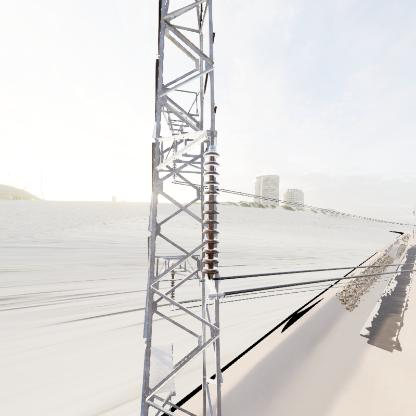insulator: (200, 147, 222, 282), (170, 271, 176, 301)
